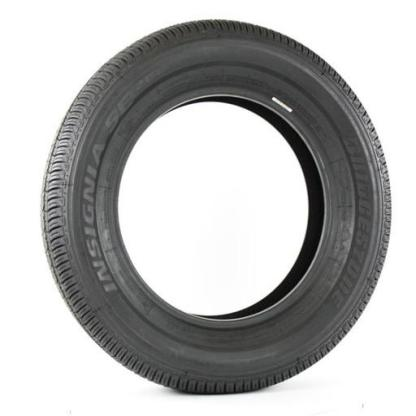Tire: (40, 18, 394, 396)
